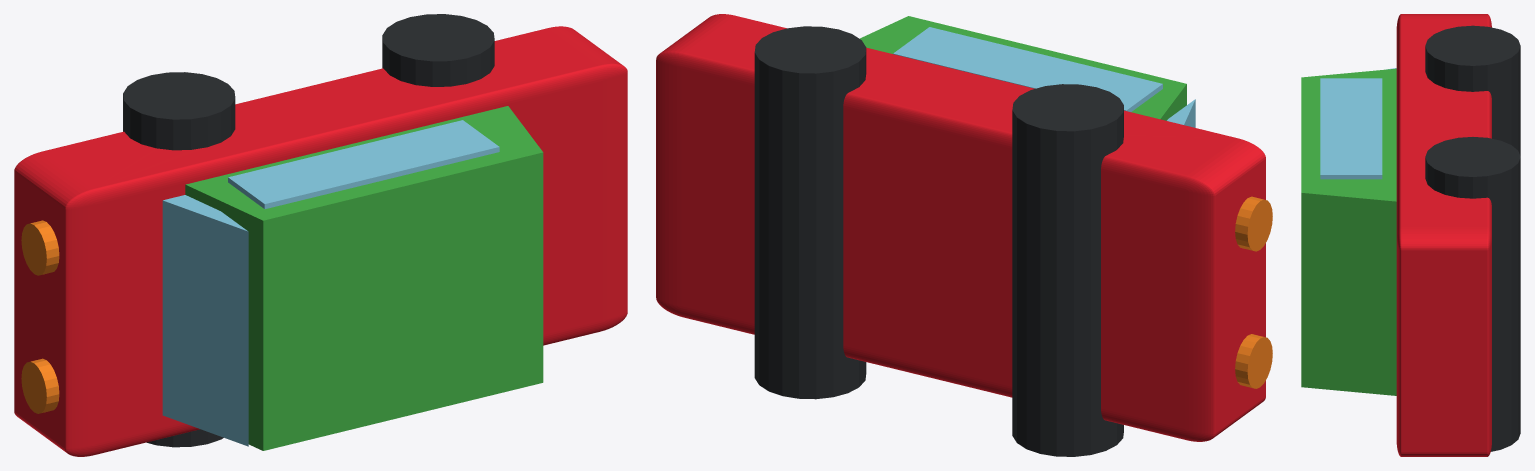
Rendered from tinker.obj.
The picture shows the model from 3 angles, left to right: view 1: azimuth 30°, elevation 25°; view 2: azimuth 150°, elevation 25°; view 3: azimuth 270°, elevation 25°; orthographic projection. The views are drawn at different scales.
Visible parts, largest first — view 1: group_0_15277357, group_0_4634441, group_0_8768998, group_0_2829873, group_0_16089887; view 2: group_0_15277357, group_0_2829873, group_0_8768998, group_0_4634441, group_0_16089887; view 3: group_0_15277357, group_0_4634441, group_0_2829873, group_0_8768998.
Part boxes in pixels (left/top/right/bottom): group_0_15277357: left=14, top=26, right=627, bottom=456; group_0_4634441: left=185, top=106, right=543, bottom=450; group_0_8768998: left=162, top=120, right=499, bottom=446; group_0_2829873: left=123, top=14, right=494, bottom=447; group_0_16089887: left=21, top=220, right=59, bottom=413; group_0_15277357: left=656, top=14, right=1265, bottom=441; group_0_2829873: left=754, top=26, right=1123, bottom=456; group_0_8768998: left=893, top=27, right=1195, bottom=127; group_0_4634441: left=860, top=16, right=1186, bottom=120; group_0_16089887: left=1235, top=196, right=1272, bottom=388; group_0_15277357: left=1396, top=14, right=1491, bottom=456; group_0_4634441: left=1301, top=68, right=1396, bottom=395; group_0_2829873: left=1425, top=25, right=1520, bottom=451; group_0_8768998: left=1320, top=68, right=1396, bottom=179.
Size of the model in its own units: 118 by 65 by 46.
